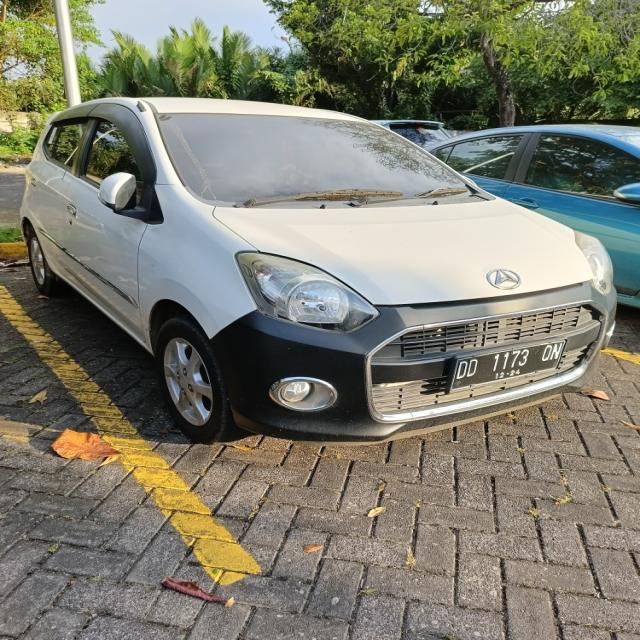plates: (459, 341, 565, 390)
